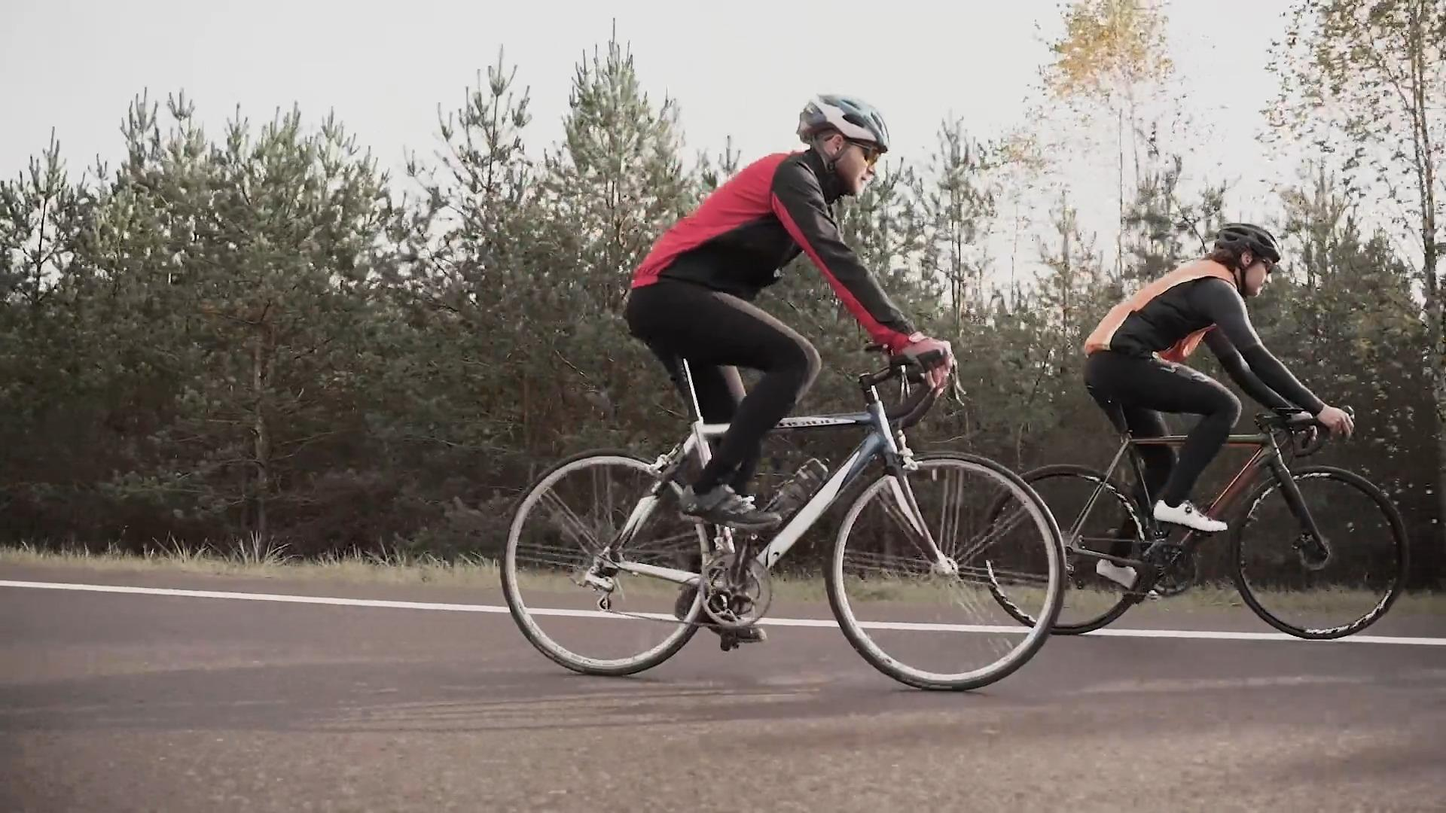bicyclist: (500, 92, 1069, 695), (979, 220, 1411, 641)
helmet: (795, 92, 889, 198), (1214, 222, 1281, 298)
